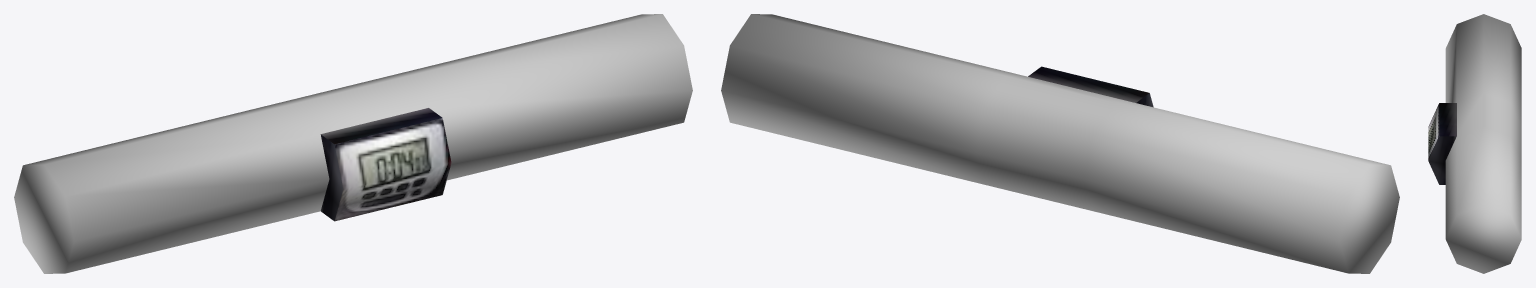
The model's file is pipe_bomb.FBX.
3 views of the same model, side by side, from view 1: azimuth 30°, elevation 25°; view 2: azimuth 150°, elevation 25°; view 3: azimuth 270°, elevation 25° (orthographic). The views are drawn at different scales.
Visible parts, largest first — view 1: pipe_bomb; view 2: pipe_bomb; view 3: pipe_bomb.
Boxes of the visible parts, x1,y1,x2,y2 form: pipe_bomb: (14, 14, 692, 273); pipe_bomb: (721, 14, 1399, 273); pipe_bomb: (1428, 14, 1521, 273).
Size of the model in its own units: 61.46 by 10.35 by 12.74.
